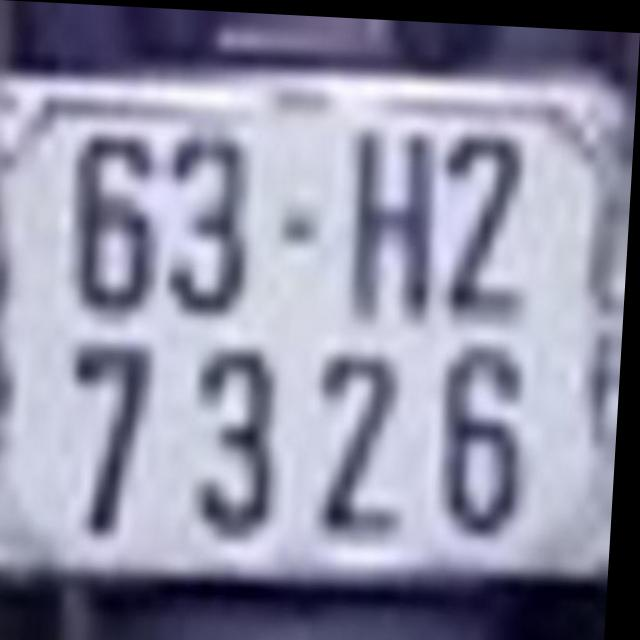2: (312, 337, 426, 534), (447, 116, 540, 312)
3: (165, 116, 266, 326), (196, 338, 295, 543)
6: (430, 331, 540, 545), (74, 122, 161, 307)
7: (58, 329, 159, 541)
H: (343, 107, 449, 317)
